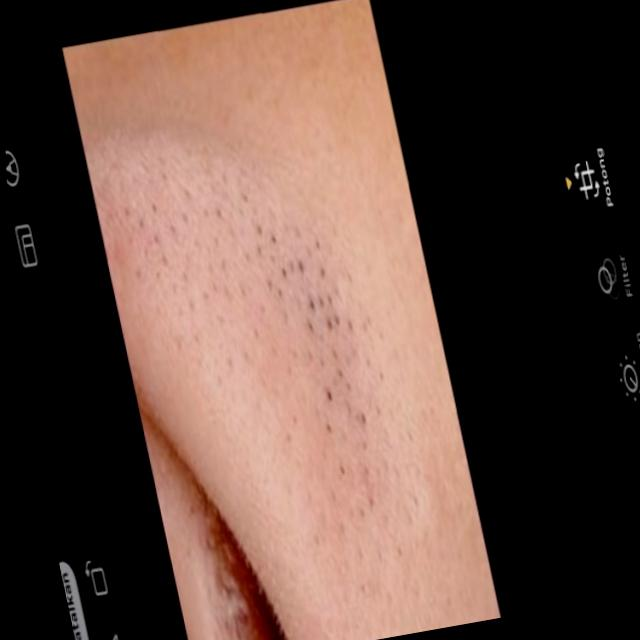blackhead: (191, 154, 384, 499)
